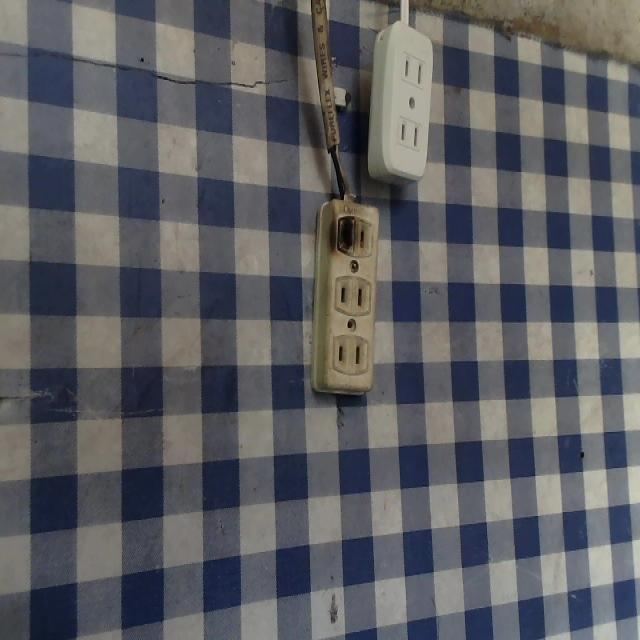-: (332, 212, 360, 259)
